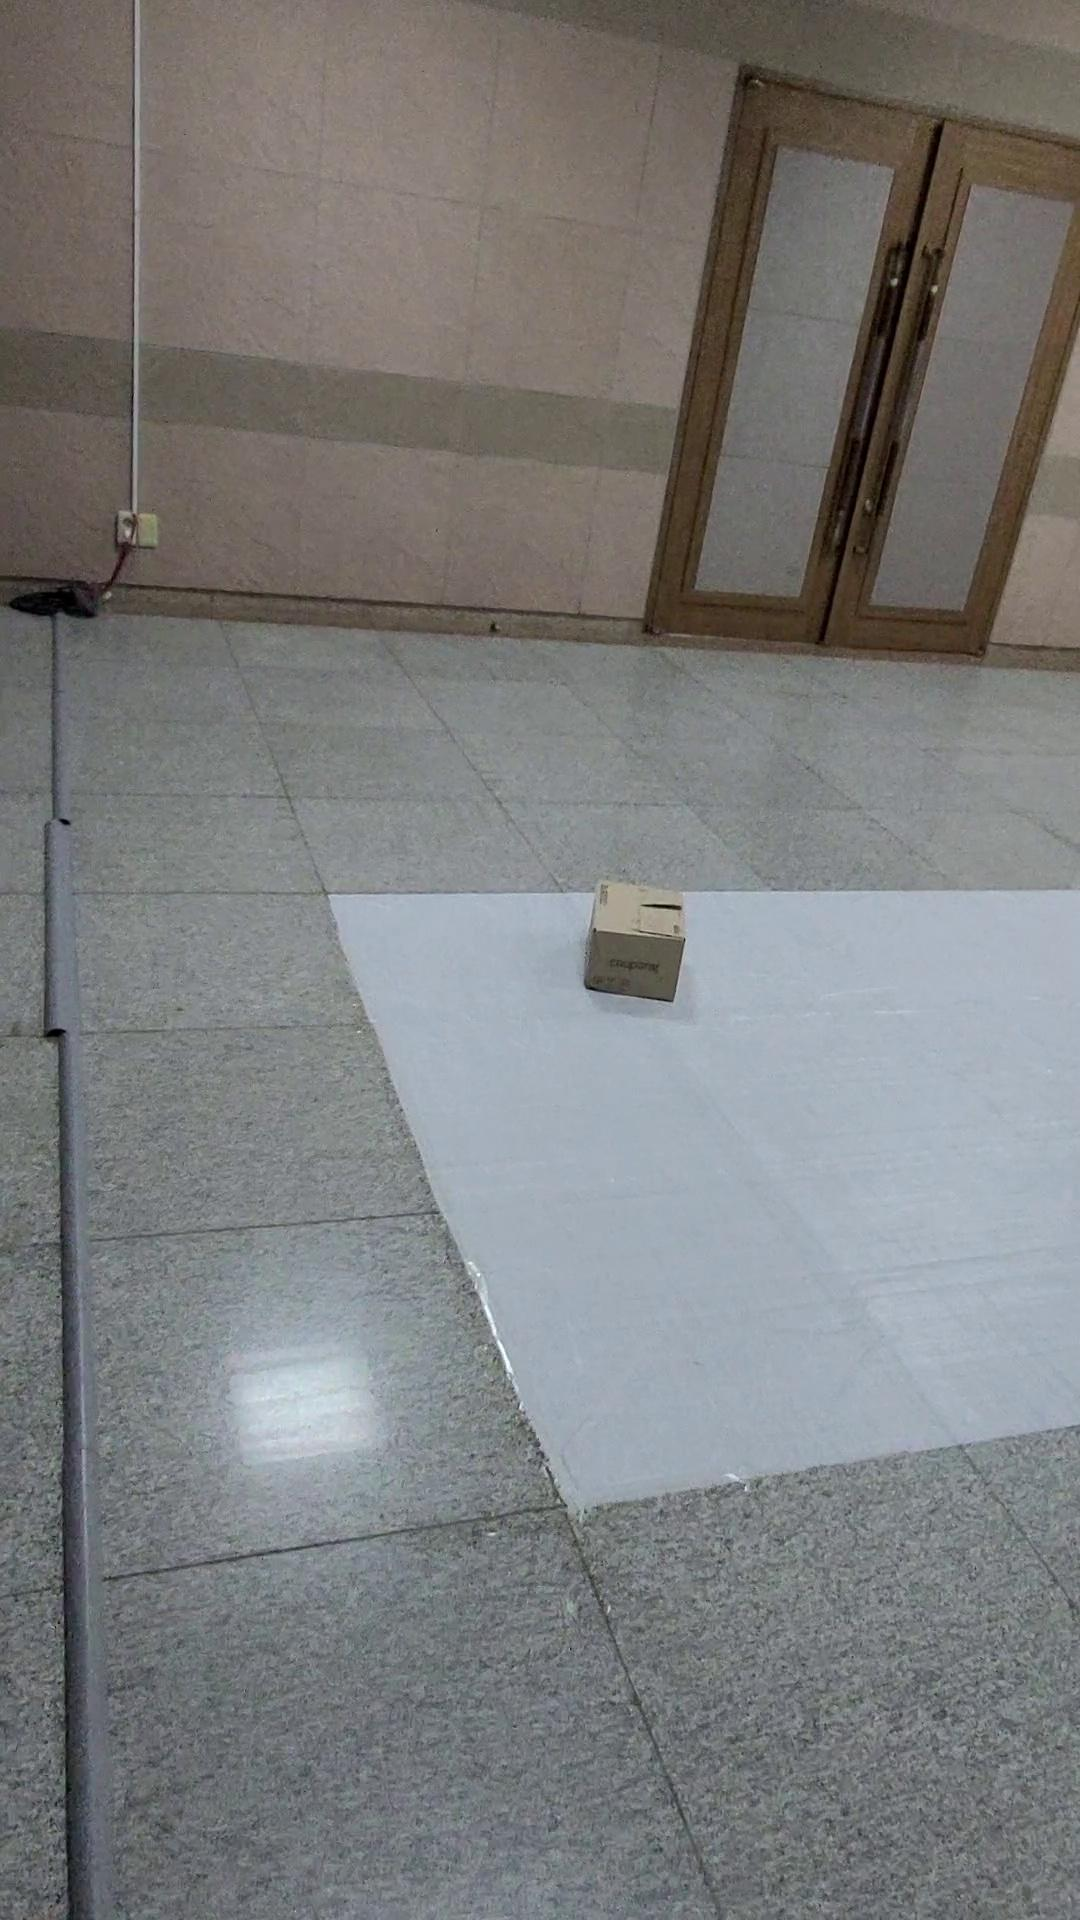Box: (501, 828, 757, 1055)
